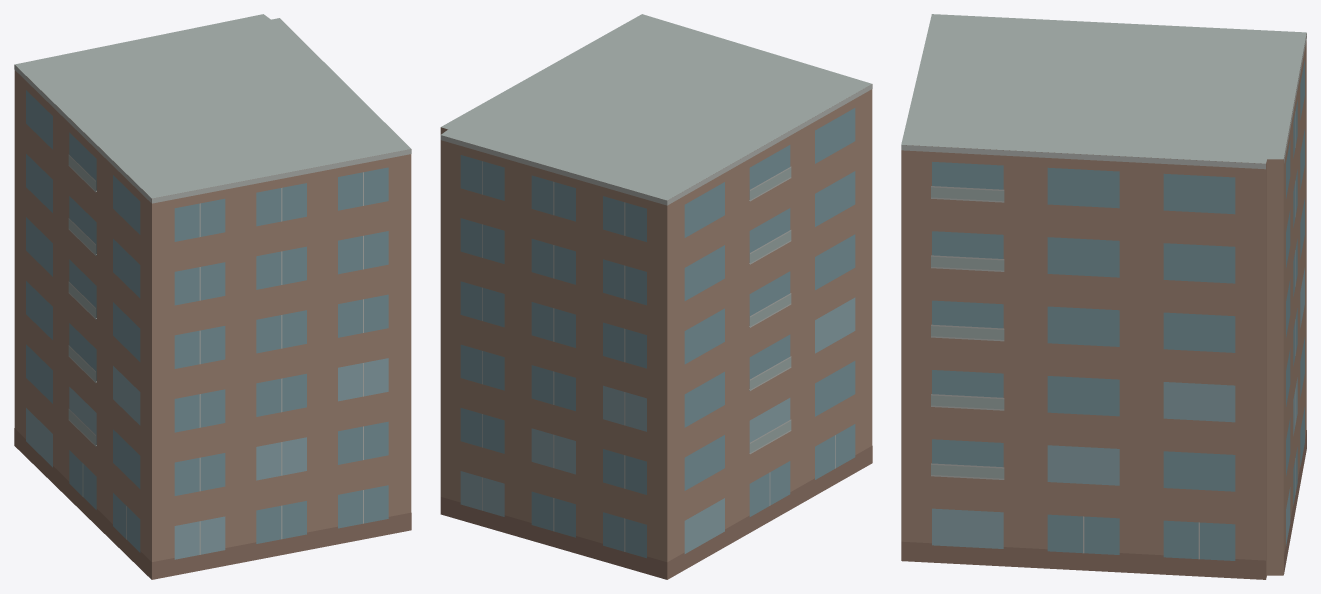
File: survey-upis-32881341.glb
3 views of the same model, side by side, from view 1: azimuth 30°, elevation 25°; view 2: azimuth 150°, elevation 25°; view 3: azimuth 270°, elevation 25° (orthographic). The views are drawn at different scales.
Visible parts, largest first — view 1: survey-upis-32881341.tmp; view 2: survey-upis-32881341.tmp; view 3: survey-upis-32881341.tmp.
Boxes of the visible parts, <box> form: survey-upis-32881341.tmp: <box>14,14,411,579</box>; survey-upis-32881341.tmp: <box>440,14,872,579</box>; survey-upis-32881341.tmp: <box>901,14,1306,579</box>.
Bounding box in the file's own units: 14.12 × 18.3 × 16.18.
